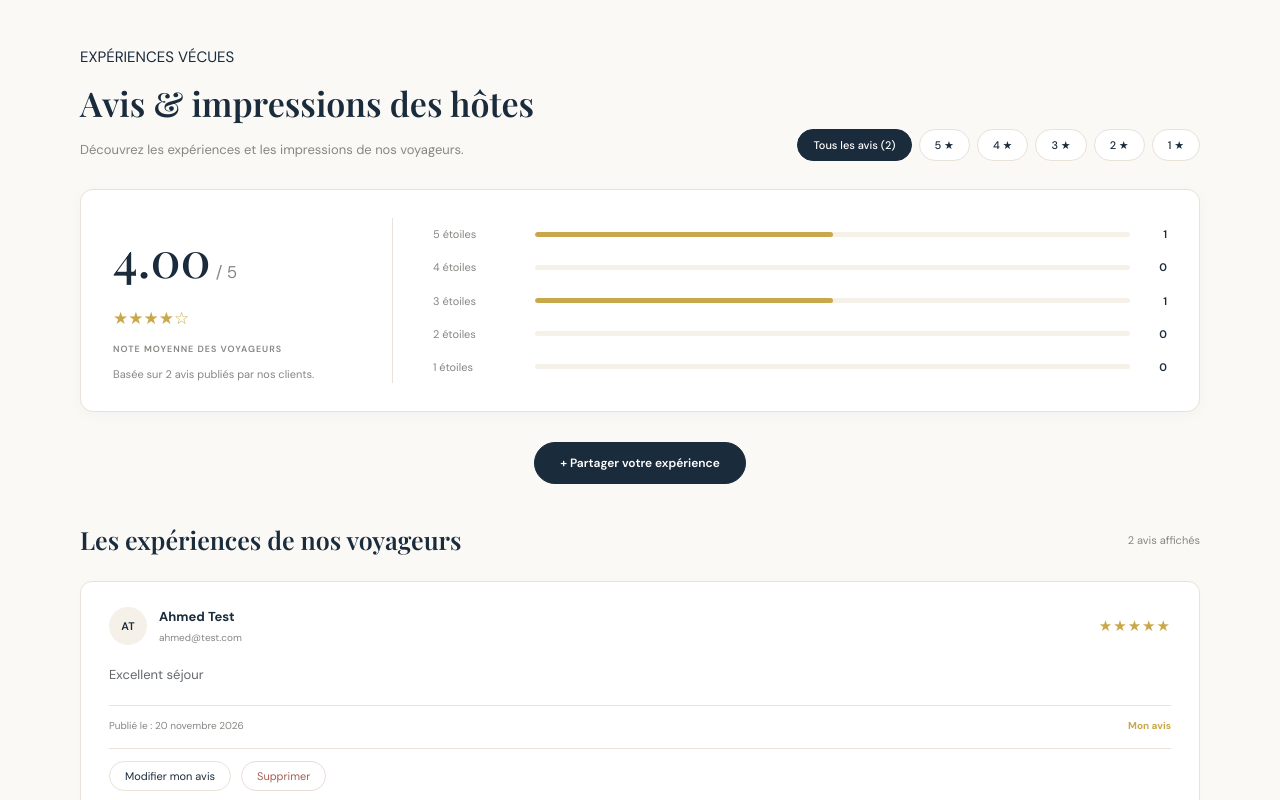
Scenario: ClientAvisPage › ouvre le formulaire de publication
Expected: the text "Excellent séjour" is shown, x1=109 y1=666 x2=204 y2=684
Click the button "+ Partager votre expérience" at (640, 463), box x1=534 y1=442 x2=746 y2=484
(page scrolled)
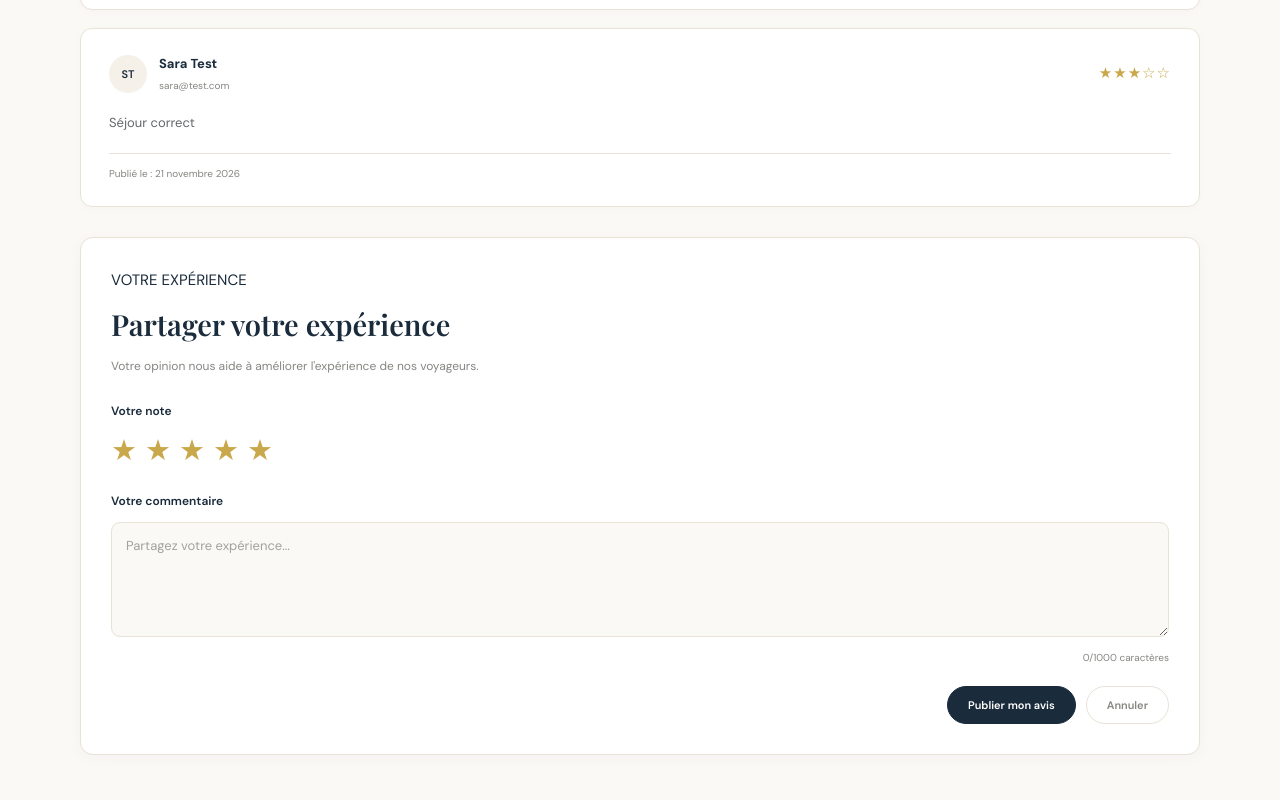
Expected: the heading "Partager votre expérience" is shown, x1=111 y1=305 x2=450 y2=343
Expected: the text box labelled "Votre commentaire" is shown, x1=111 y1=522 x2=1169 y2=637
